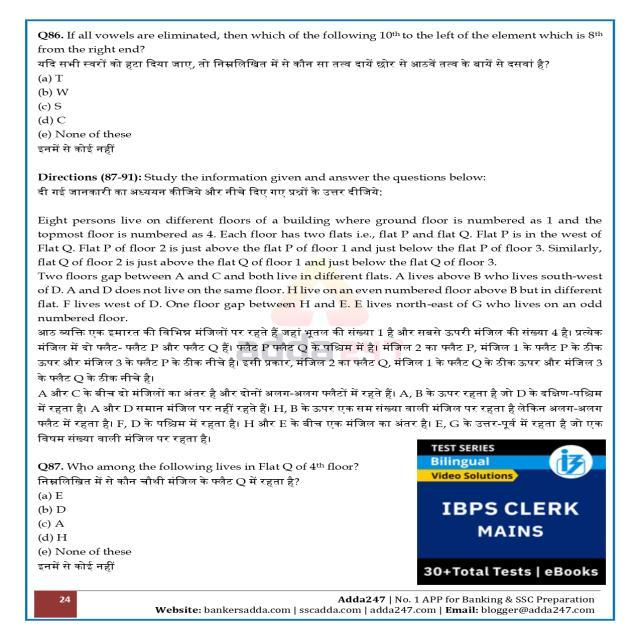Answer_Block: (26, 488, 615, 586), (26, 68, 615, 156)
Instruction: (27, 160, 607, 445)
Question_Answer_Block: (26, 449, 615, 590), (26, 18, 615, 156)
Question_Block: (26, 19, 615, 70), (26, 449, 615, 489)
Question_Paper_Area: (26, 19, 615, 619)
